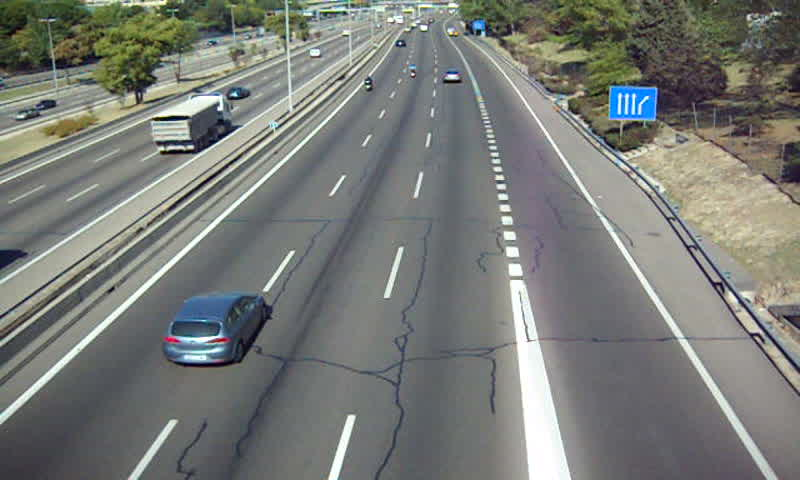car: (162, 292, 265, 364), (441, 69, 462, 82), (395, 40, 406, 49)
motorcycle: (363, 77, 374, 93), (407, 66, 418, 80)
